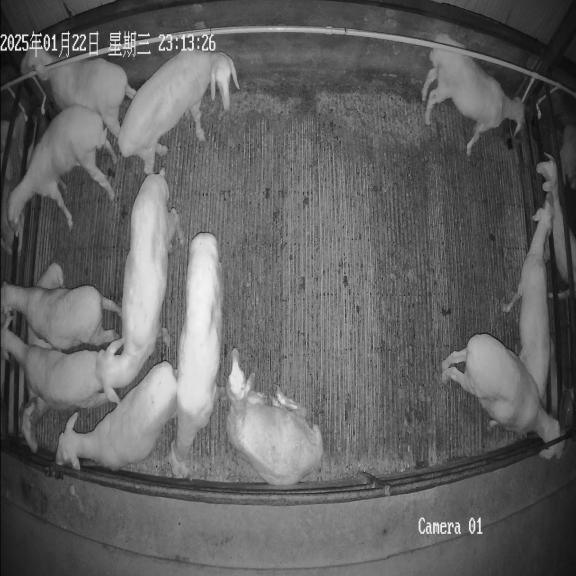drinking: (421, 33, 524, 156)
eating: (442, 334, 566, 459)
lying: (226, 348, 323, 485), (20, 263, 68, 452)
stand: (96, 168, 184, 402), (118, 51, 239, 175), (8, 105, 116, 235), (169, 233, 225, 477), (56, 361, 177, 470), (21, 46, 136, 136), (502, 198, 553, 399), (2, 326, 108, 410), (2, 282, 121, 350)
